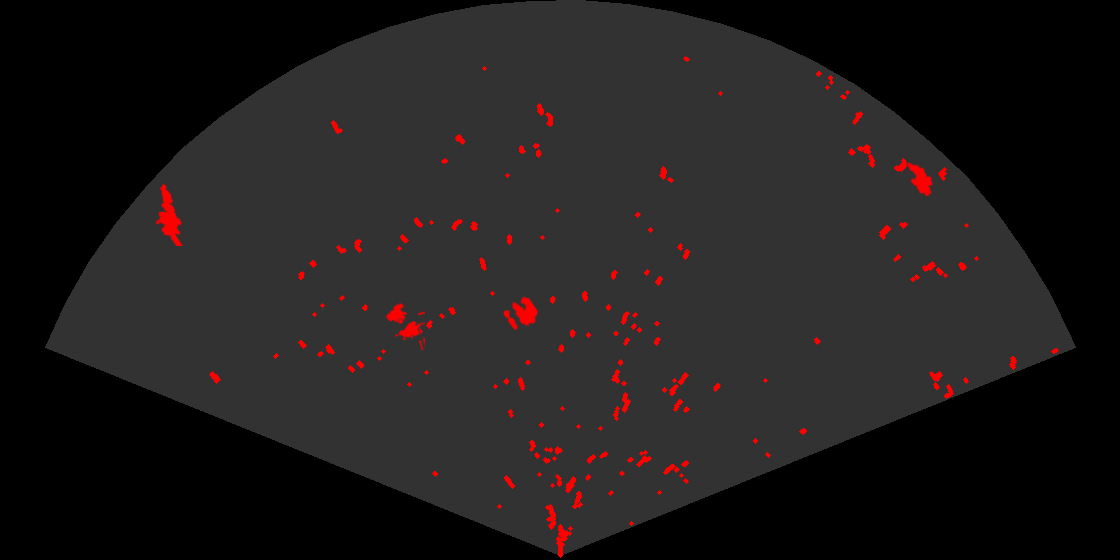AUV: (906, 161, 934, 198)
ball: (502, 295, 540, 332)
cage: (384, 301, 425, 350)
frogman: (154, 182, 184, 246)
